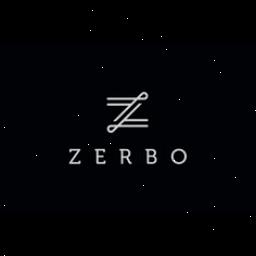z: (102, 88, 152, 136), (64, 143, 84, 169)
